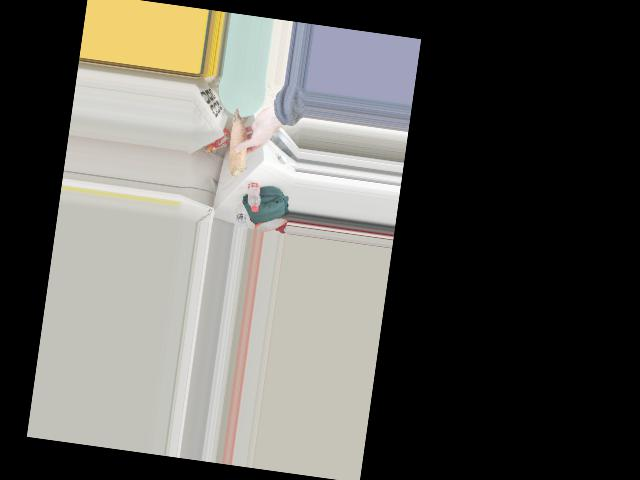sweet_potato: (224, 109, 254, 179)
